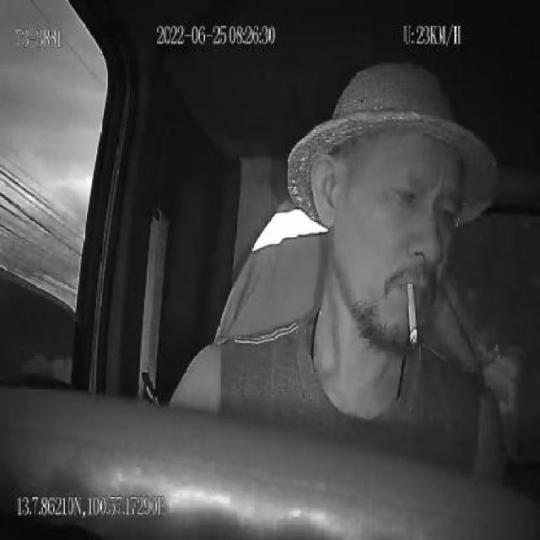smoking: (406, 284, 419, 345)
